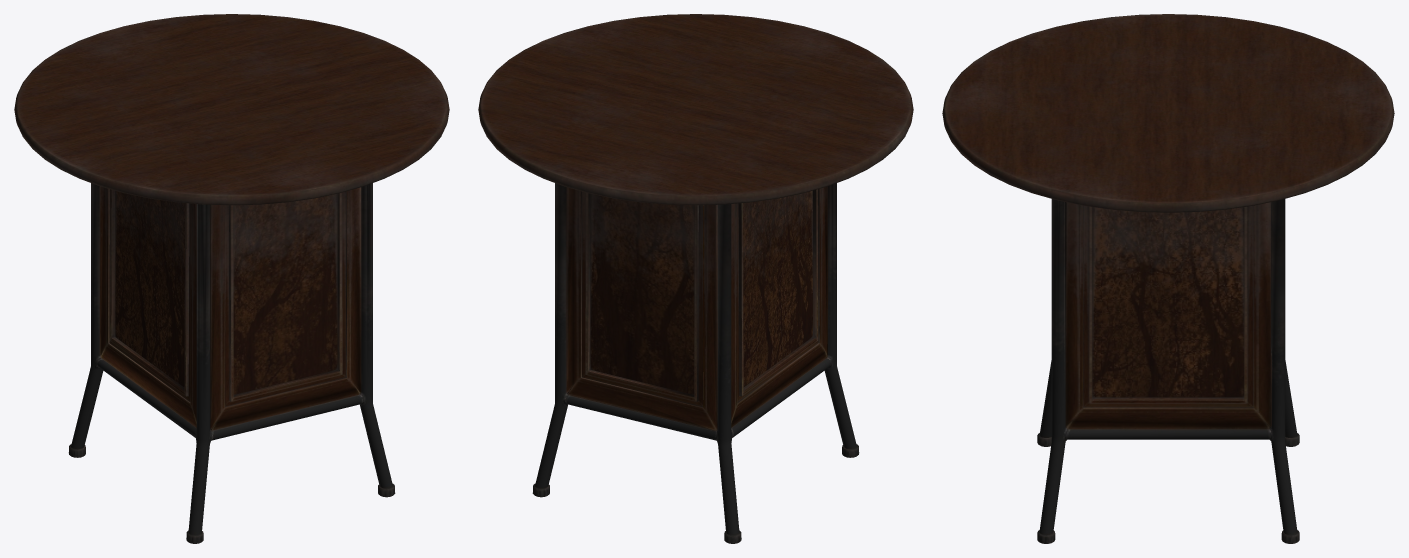
The model's file is round_wooden_table_02.glb.
3 renders of one model, left to right at view 1: azimuth 30°, elevation 25°; view 2: azimuth 150°, elevation 25°; view 3: azimuth 270°, elevation 25°, orthographic. The views are drawn at different scales.
Parts seen in each view (by area): view 1: round_wooden_table_02; view 2: round_wooden_table_02; view 3: round_wooden_table_02.
Boxes of the visible parts, x1,y1,x2,y2 form: round_wooden_table_02: (14, 14, 449, 543); round_wooden_table_02: (478, 14, 913, 543); round_wooden_table_02: (942, 14, 1394, 543).
Bounding box in the file's own units: 0.7962 × 0.7459 × 0.7962.
1 material, 1 textured.
